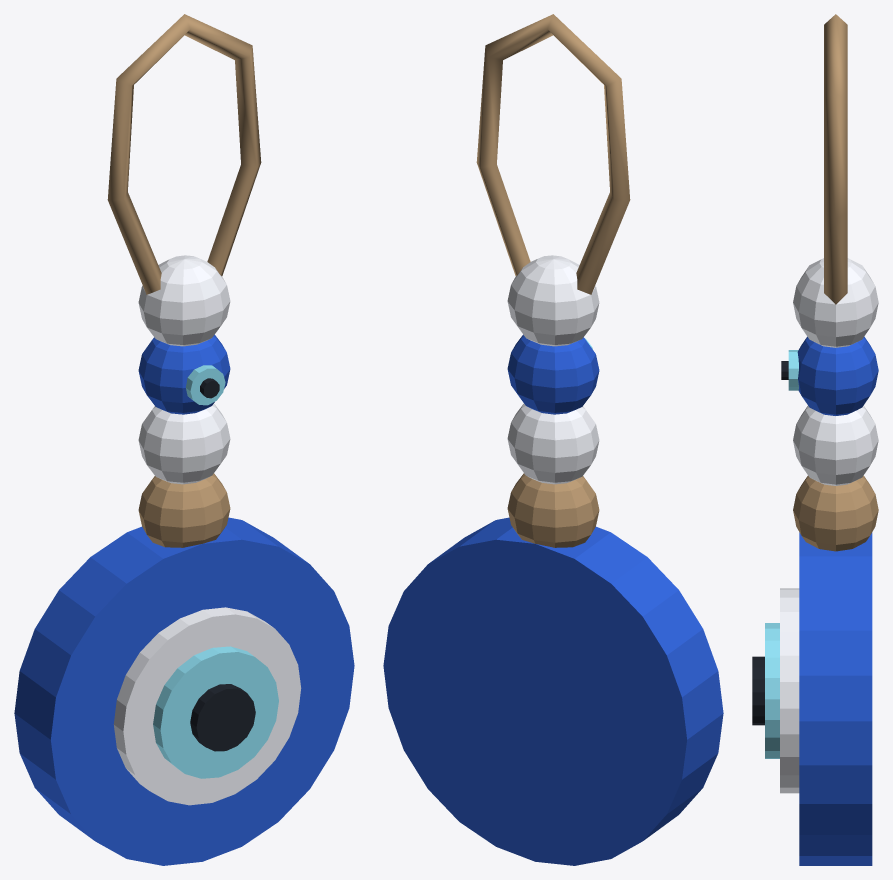
Rendered from Nazar.fbx.
The picture shows the model from 3 angles, left to right: view 1: azimuth 30°, elevation 25°; view 2: azimuth 150°, elevation 25°; view 3: azimuth 270°, elevation 25°; orthographic projection.
Visible parts, largest first — view 1: Nazar | pupila, Nazar | asa de cuerda; view 2: Nazar | pupila, Nazar | asa de cuerda; view 3: Nazar | pupila, Nazar | asa de cuerda.
Part boxes in pixels (x1,y1,x2,y2): Nazar | pupila: [14, 255, 354, 865]; Nazar | asa de cuerda: [107, 14, 261, 294]; Nazar | pupila: [383, 255, 723, 865]; Nazar | asa de cuerda: [476, 14, 630, 294]; Nazar | pupila: [752, 258, 878, 865]; Nazar | asa de cuerda: [824, 14, 847, 304].
Bounding box in the file's own units: 164 × 430 × 59.
